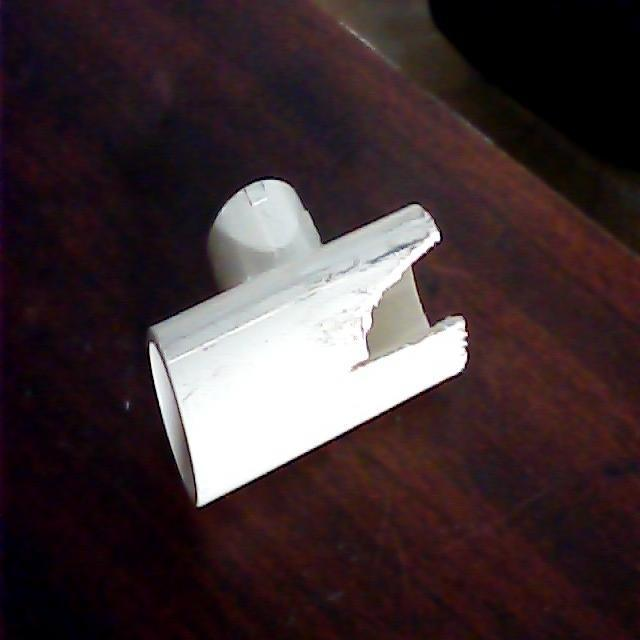Defective: (352, 243, 478, 372)
T Joint: (146, 180, 469, 510)
